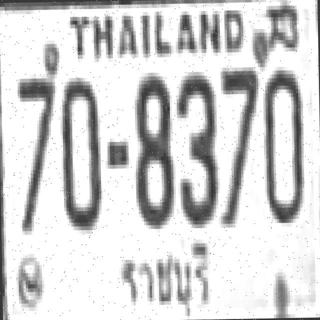N00: (262, 66, 302, 219), (59, 74, 99, 226)
N03: (174, 70, 216, 223)
N07: (14, 74, 56, 231), (218, 63, 258, 224)
N08: (132, 72, 172, 225)
P52: (114, 236, 210, 320)
